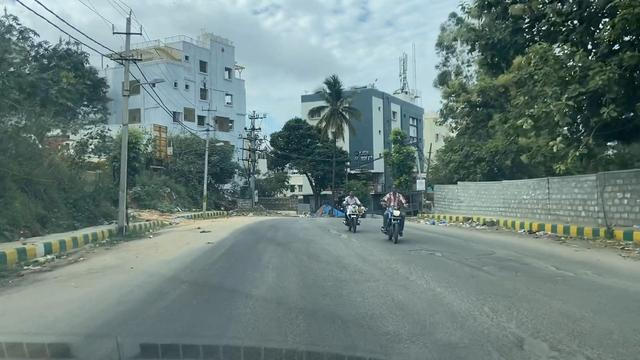RoadDamages: (487, 241, 593, 290), (405, 243, 486, 287), (309, 215, 365, 255)
